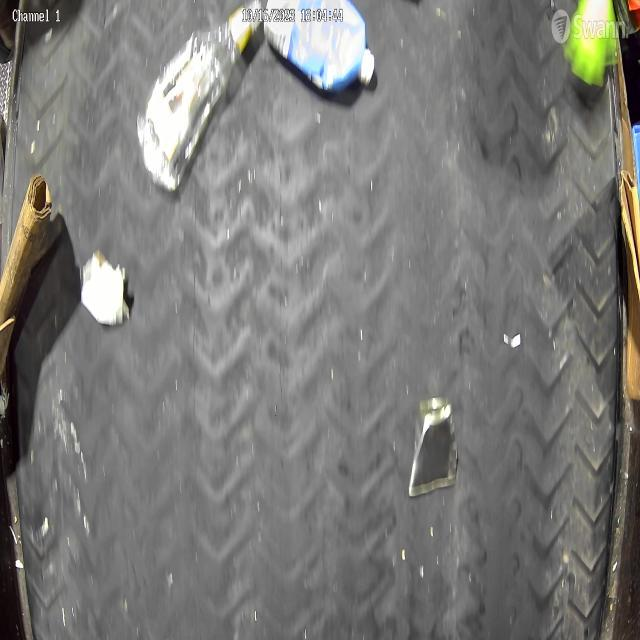can: (263, 0, 375, 95), (408, 394, 460, 498)
